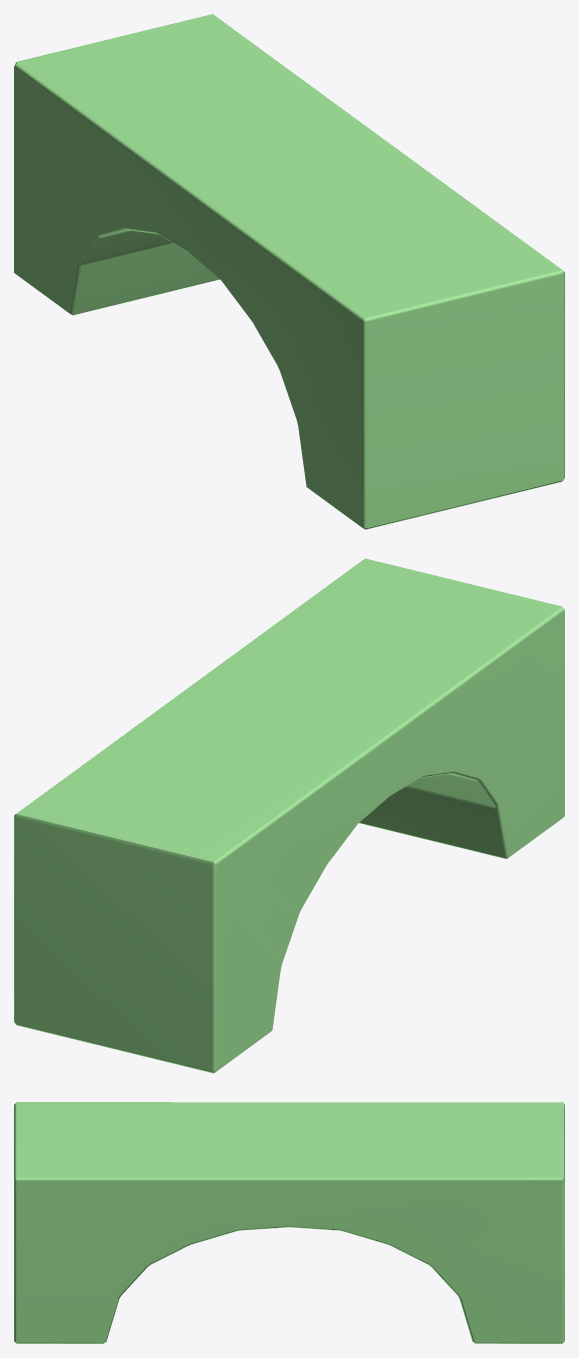
The model's file is Arch_V02.fbx.
The picture shows the model from 3 angles, top to bottom: view 1: azimuth 30°, elevation 25°; view 2: azimuth 150°, elevation 25°; view 3: azimuth 270°, elevation 25°; orthographic projection. The views are drawn at different scales.
Parts seen in each view (by area): view 1: Arch2x6x2inch; view 2: Arch2x6x2inch; view 3: Arch2x6x2inch.
Boxes of the visible parts, bbox=[...] form: Arch2x6x2inch: bbox=[14, 14, 564, 529]; Arch2x6x2inch: bbox=[14, 558, 564, 1073]; Arch2x6x2inch: bbox=[14, 1102, 564, 1343].
Bounding box in the file's own units: 508 × 508 × 1524.
